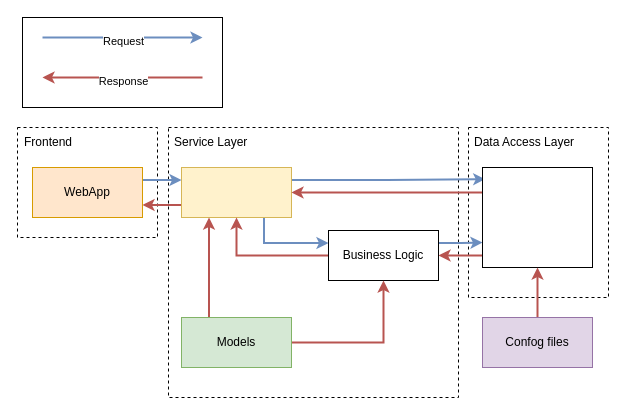
The diagram is 626 pixels wide and 415 high, and some of its shapes have lost their labels. The centre of each missing label's shape, as x and y in pixels:
"CRUD repos" belongs at [537,217].
"Service" belongs at [236,192].
